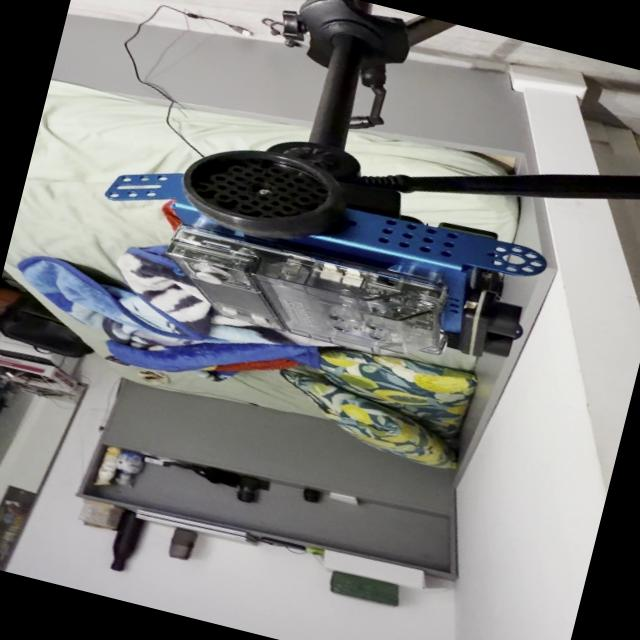mbot-detection: (68, 105, 571, 398)
